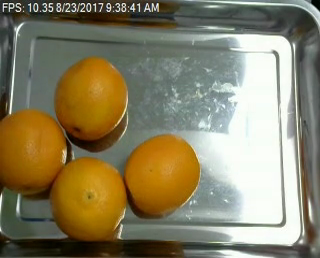Orange: (124, 133, 200, 214), (54, 56, 129, 138), (50, 156, 125, 237), (1, 109, 68, 194)
